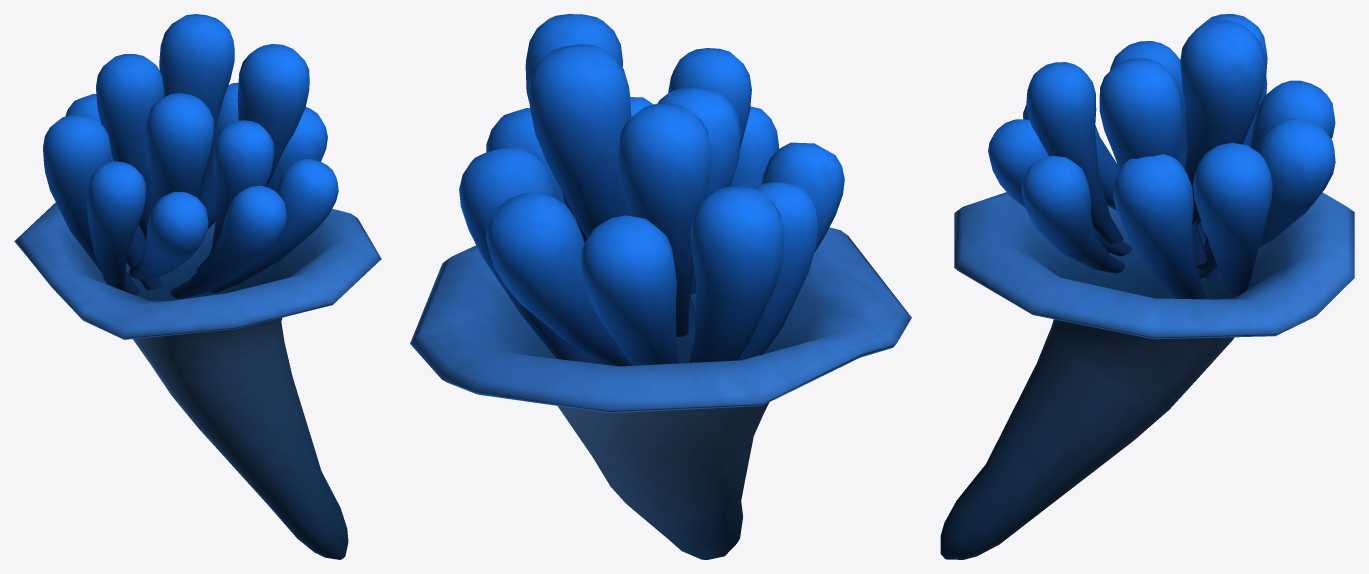
Rendered from Cartoon Seaweed_13-2-26.fbx.
3 renders of one model, left to right at view 1: azimuth 30°, elevation 25°; view 2: azimuth 150°, elevation 25°; view 3: azimuth 270°, elevation 25°, orthographic. The views are drawn at different scales.
Visible parts, largest first — view 1: Cartoon Seaweed_13.2.26; view 2: Cartoon Seaweed_13.2.26; view 3: Cartoon Seaweed_13.2.26.
Part boxes in pixels (x1=…): Cartoon Seaweed_13.2.26: x1=14, y1=14, x2=381, y2=559; Cartoon Seaweed_13.2.26: x1=410, y1=14, x2=911, y2=559; Cartoon Seaweed_13.2.26: x1=940, y1=14, x2=1354, y2=559.
Size of the model in its own units: 13.05 by 18.56 by 13.33.
Materials: 1 (1 with a texture image).
